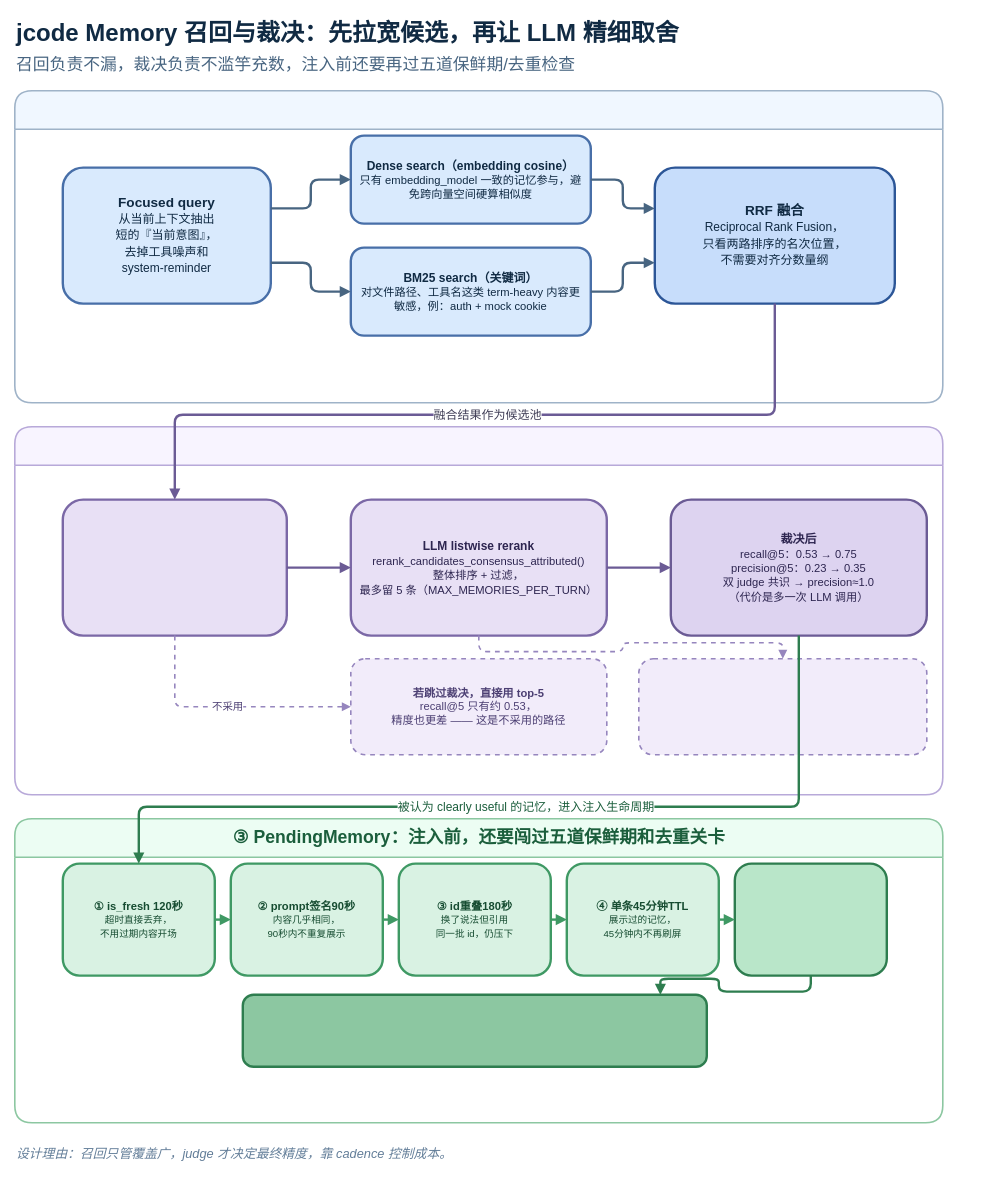
Image size: 1004x1181. Some labels were removed from this diagram. Here are the shapes that lost their labels. From the top down, the box of each, then its label:
(14, 90, 943, 403): ① 混合召回：dense 找语义相近，BM25 找关键词，RRF 按排名融合
(61, 498, 288, 636): Hybrid 候选池 约 99% relevant， 但排序很差
(14, 426, 943, 795): ② LLM listwise rerank：召回可以粗，裁决决定最终精度
(638, 658, 927, 755): sidecar 不可用时 按配置进入 dormant（暂停生效） 或启用 no-sidecar fallback（精度更低） 绝不把未审核结果直接塞给你
(733, 862, 888, 976): ⑤ mark_memories_known 刚抽取的新记忆立刻 标记已知，防止自己喂自己
(241, 993, 708, 1068): # Memory 注入 prompt Corrections / Facts / Preferences 三段，不带元数据和分数
